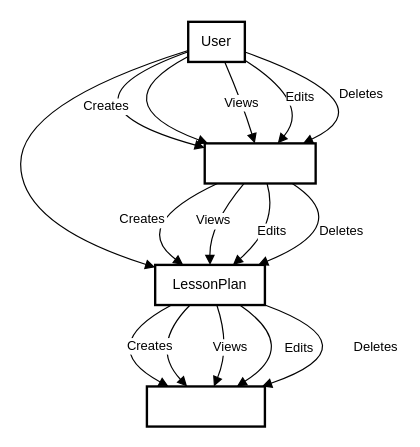
The diagram is 420 pixels wide and 447 high, and some of its shapes have lost their labels. The centre of each missing label's shape, as x and y in pixels:
"ClassRecord" belongs at [205,406].
"CoursePlan" belongs at [259,163].
